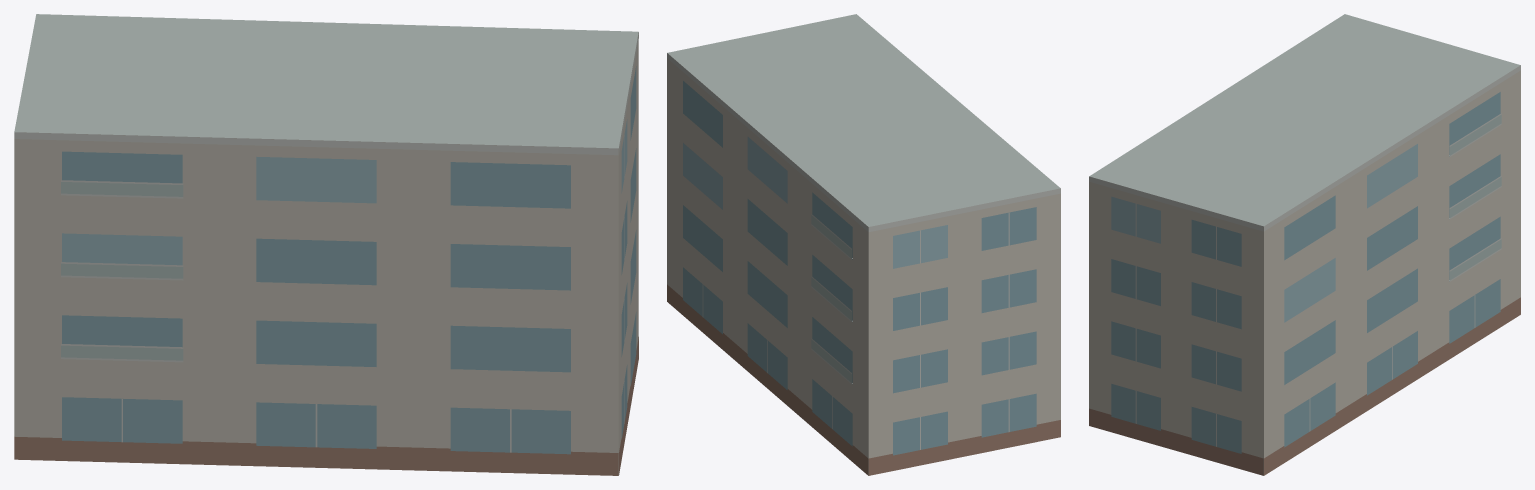
The model's file is survey-upis-32674568.glb.
The picture shows the model from 3 angles, left to right: view 1: azimuth 30°, elevation 25°; view 2: azimuth 150°, elevation 25°; view 3: azimuth 270°, elevation 25°; orthographic projection. The views are drawn at different scales.
Parts seen in each view (by area): view 1: survey-upis-32674568.tmp; view 2: survey-upis-32674568.tmp; view 3: survey-upis-32674568.tmp.
Part boxes in pixels (x1=…): survey-upis-32674568.tmp: x1=14, y1=14, x2=638, y2=475; survey-upis-32674568.tmp: x1=667, y1=14, x2=1060, y2=475; survey-upis-32674568.tmp: x1=1089, y1=14, x2=1520, y2=475.
Bounding box in the file's own units: 21.19 × 11.6 × 18.2.
